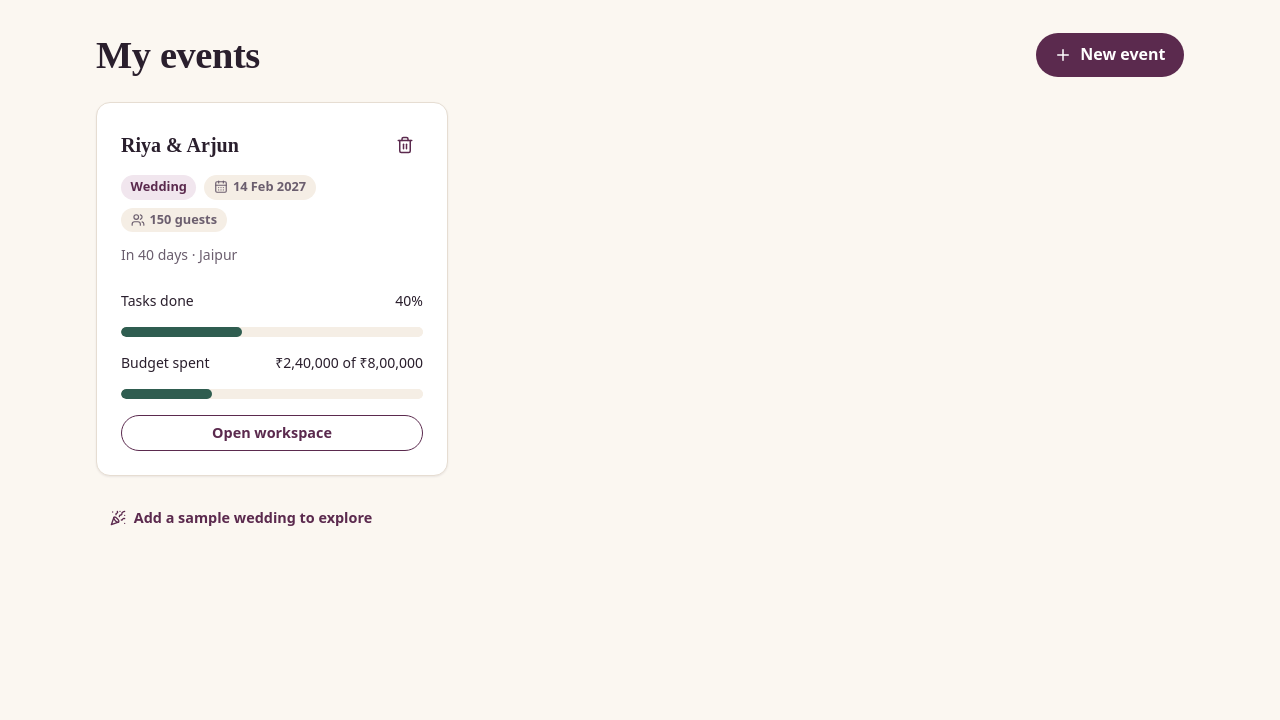
DashboardPage › deletes the event after confirmation
What coordinates should you click on to do the following:
click the button named "Delete Riya & Arjun"
I would click on:
 (405, 145)
Its box is [387,127,423,163].
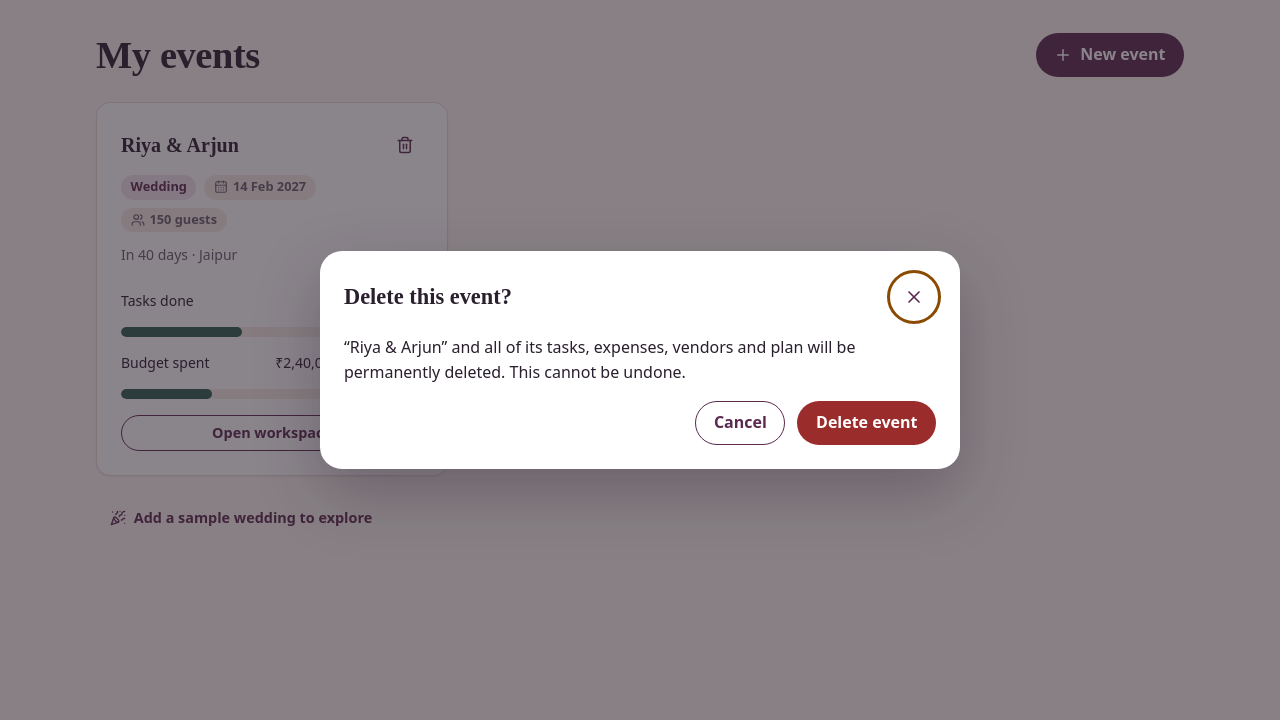
What coordinates should you click on to do the following:
click the button "Delete event"
I would click on:
 (867, 423)
Its box is [798,401,936,445].
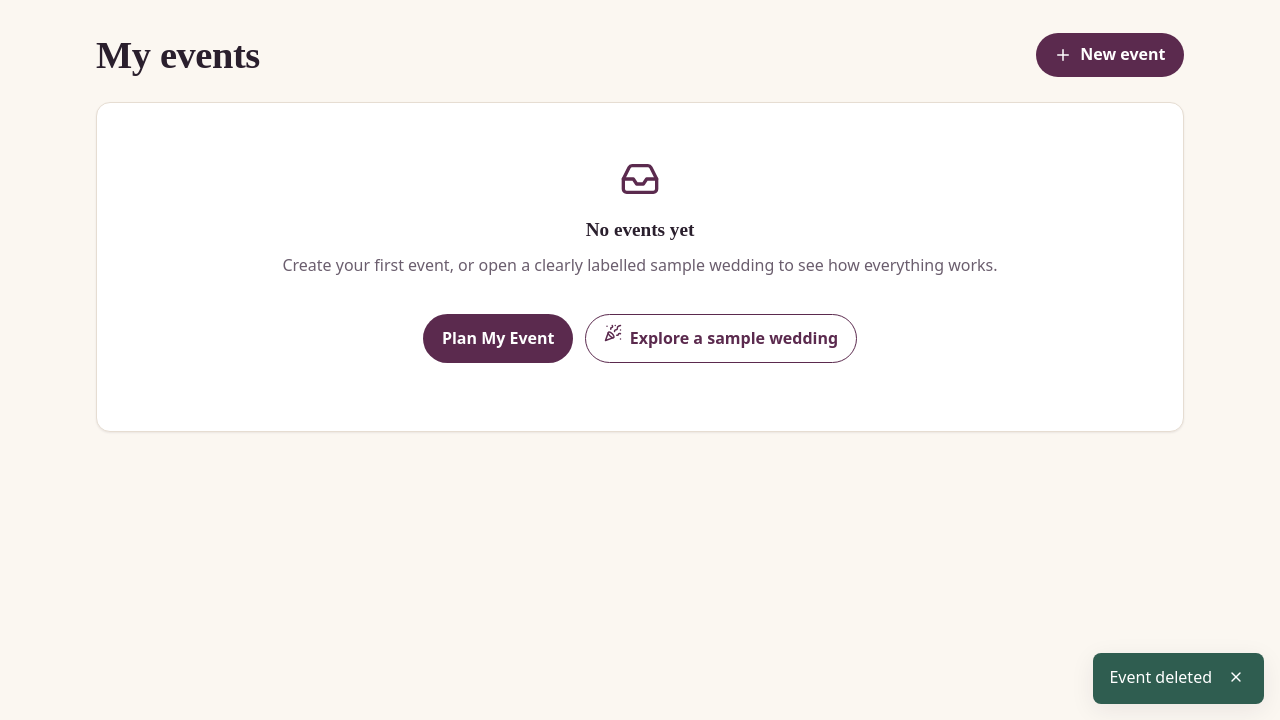
Result: the text "Event deleted" is shown at [1110,665,1212,690]
